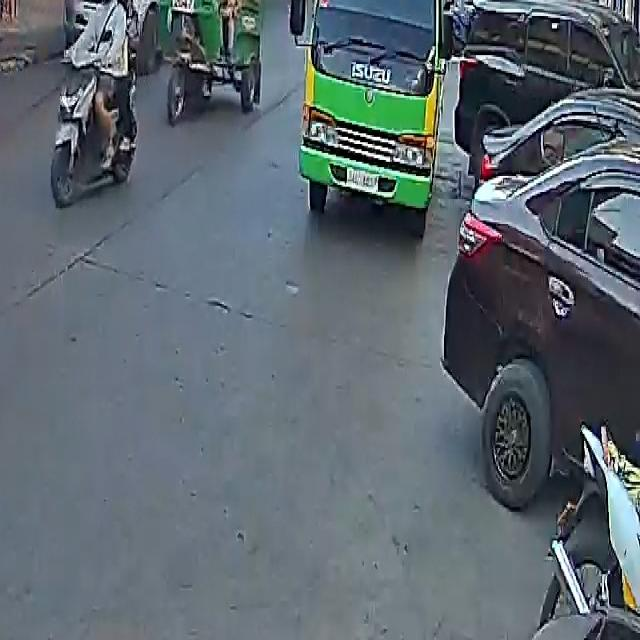car: (443, 68, 640, 523), (452, 0, 639, 178), (70, 0, 170, 32)
